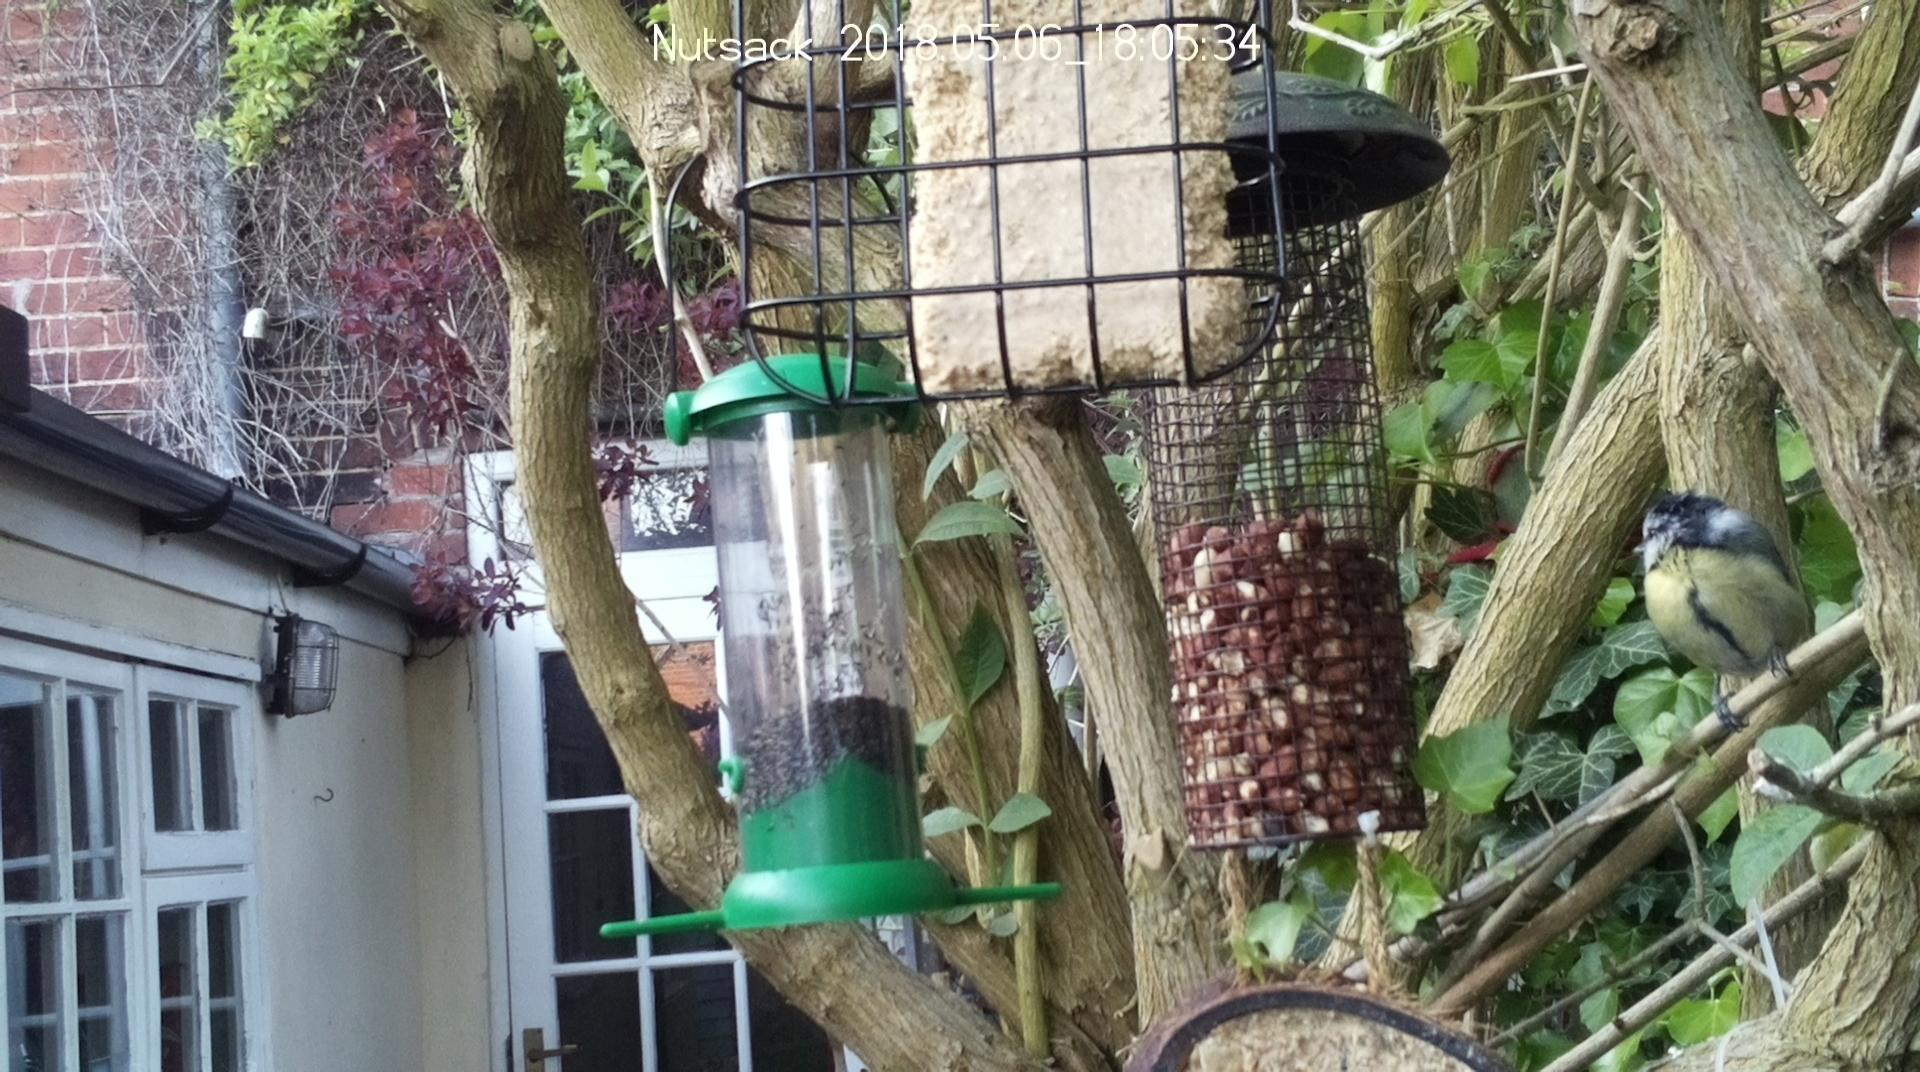blue tit: (1631, 493, 1809, 734)
